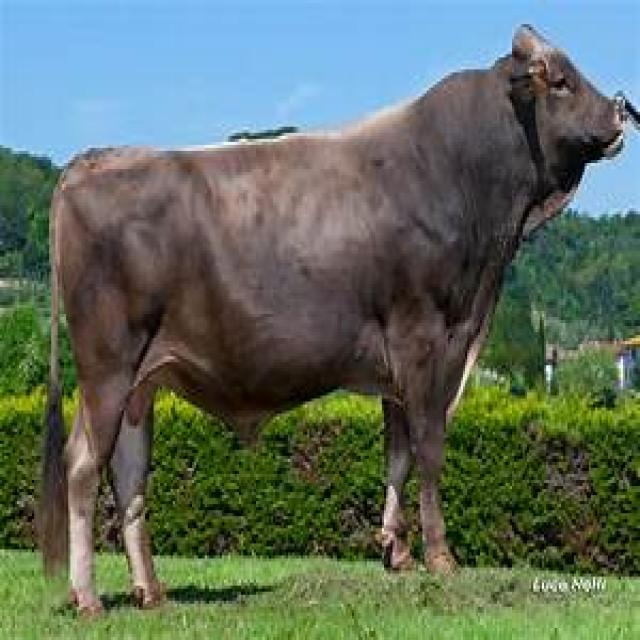cow: (34, 24, 640, 619)
